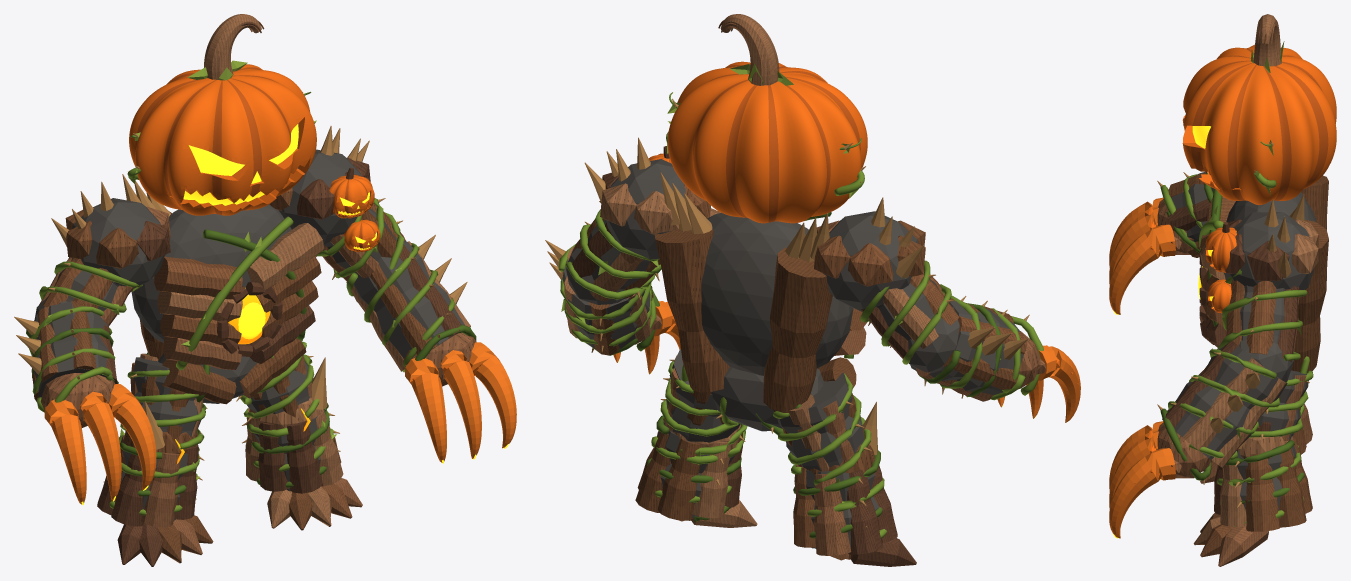
Rendered from PumpkinTitan.glb.
3 views of the same model, side by side, from view 1: azimuth 30°, elevation 25°; view 2: azimuth 150°, elevation 25°; view 3: azimuth 270°, elevation 25° (orthographic). The views are drawn at different scales.
Parts seen in each view (by area): view 1: Pumpkin_Head, Torso_Stone, Shoulder_Stone_-1, Forearm_Core_1, Rib_Bark_-1_3, Shoulder_Stone_1, Rib_Bark_1_3, Orange_Claw_-1_0, Orange_Claw_1_0, Orange_Claw_1_2, Orange_Claw_-1_2, Orange_Claw_-1_1 (+57 smaller); view 2: Pumpkin_Head, Torso_Stone, Back_Trunk_-1, Back_Trunk_1, Shoulder_Stone_-1, Shoulder_Stone_1, Thigh_Core_-1, Pelvis_Stone, Shin_Bark_1_2, Shin_Bark_-1_2, Curled_Wood_Stem, Shin_Bark_-1_3 (+44 smaller); view 3: Pumpkin_Head, Forearm_Core_1, Shoulder_Stone_1, Back_Trunk_1, Orange_Claw_-1_2, Orange_Claw_1_2, Shin_Bark_1_0, Forearm_Bark_1_0, Upper_Bark_1_0, Shin_Bark_1_1, Shin_Bark_1_6, Root_Toe_1_4 (+45 smaller).
Boxes of the visible parts, x1,y1,x2,y2 form: Pumpkin_Head: (129, 64, 316, 215); Torso_Stone: (131, 204, 291, 342); Shoulder_Stone_-1: (72, 198, 165, 288); Forearm_Core_1: (353, 241, 464, 358); Rib_Bark_-1_3: (154, 256, 242, 299); Shoulder_Stone_1: (279, 149, 361, 244); Rib_Bark_1_3: (247, 223, 324, 290); Orange_Claw_-1_0: (44, 399, 86, 504); Orange_Claw_1_0: (405, 357, 446, 462); Orange_Claw_1_2: (469, 342, 516, 448); Orange_Claw_-1_2: (108, 384, 156, 489); Orange_Claw_-1_1: (80, 391, 121, 500); Pumpkin_Head: (667, 61, 867, 223); Torso_Stone: (701, 212, 853, 375); Back_Trunk_-1: (763, 247, 832, 412); Back_Trunk_1: (654, 229, 729, 392); Shoulder_Stone_-1: (822, 211, 918, 311); Shoulder_Stone_1: (606, 159, 685, 259); Thigh_Core_-1: (778, 373, 864, 471); Pelvis_Stone: (711, 367, 823, 431); Shin_Bark_1_2: (657, 438, 701, 520); Shin_Bark_-1_2: (813, 473, 851, 555); Curled_Wood_Stem: (720, 14, 779, 85); Shin_Bark_-1_3: (846, 470, 882, 554); Pumpkin_Head: (1182, 44, 1336, 204); Forearm_Core_1: (1168, 346, 1287, 459); Shoulder_Stone_1: (1223, 212, 1315, 289); Back_Trunk_1: (1291, 219, 1328, 371); Orange_Claw_-1_2: (1109, 224, 1175, 314); Orange_Claw_1_2: (1109, 448, 1175, 538); Shin_Bark_1_0: (1245, 453, 1279, 531); Forearm_Bark_1_0: (1182, 357, 1265, 452); Upper_Bark_1_0: (1247, 281, 1276, 354); Shin_Bark_1_1: (1277, 448, 1306, 527); Shin_Bark_1_6: (1220, 465, 1246, 526); Root_Toe_1_4: (1218, 526, 1268, 566).
Size of the model in its own units: 26.44 by 28.06 by 11.53.
15 materials, 5 textured.
